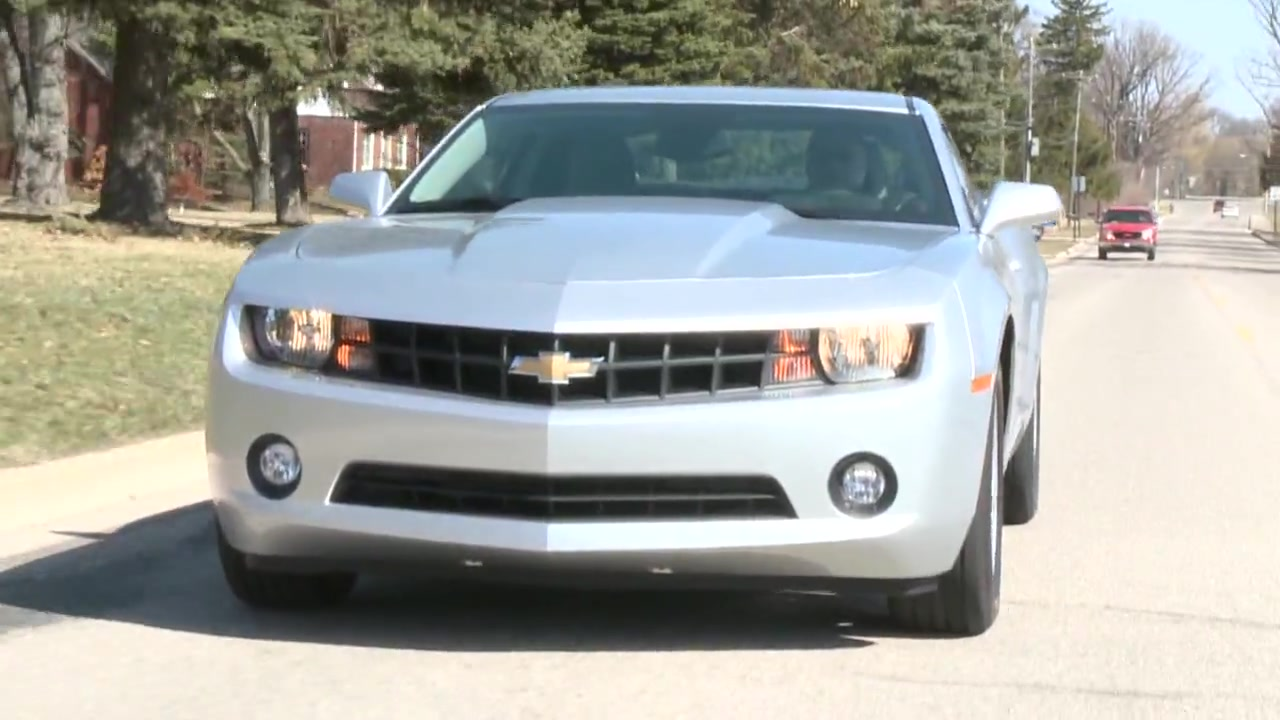car: (204, 83, 1065, 639)
